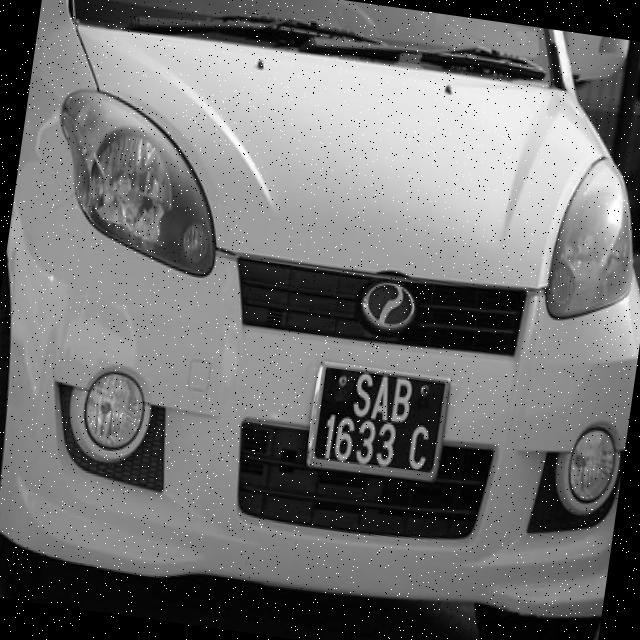License_Plate: (295, 350, 468, 495)
car: (1, 1, 640, 640)
